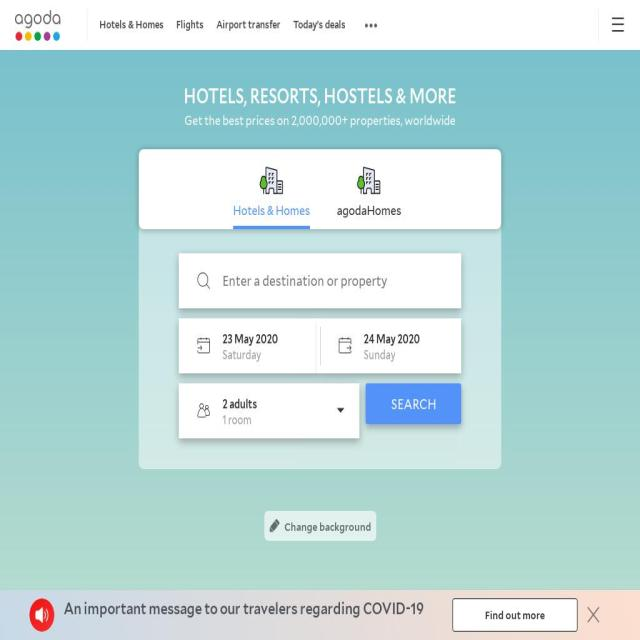button: (452, 598, 578, 632), (366, 383, 461, 425), (93, 0, 170, 50), (210, 0, 287, 50), (264, 511, 376, 541), (287, 0, 352, 50), (10, 0, 74, 50), (478, 105, 558, 143), (494, 205, 572, 243), (170, 0, 210, 50), (478, 56, 522, 92), (540, 150, 555, 200), (568, 150, 572, 200)
field: (222, 272, 430, 289)
heading: (139, 83, 501, 109), (139, 113, 501, 129), (232, 203, 310, 219), (336, 203, 402, 219)
image: (10, 10, 66, 42), (258, 162, 284, 196), (356, 162, 382, 196), (30, 598, 54, 632), (540, 168, 555, 184), (232, 226, 310, 229)
text: (63, 598, 550, 618), (222, 412, 328, 426), (605, 0, 630, 50), (222, 330, 288, 348), (364, 330, 430, 348), (284, 520, 371, 533), (222, 346, 288, 362), (364, 346, 430, 362), (391, 394, 436, 414), (486, 117, 550, 131), (502, 217, 564, 231), (99, 18, 164, 31), (216, 18, 281, 31), (293, 18, 346, 31), (222, 396, 257, 411), (485, 67, 514, 81), (176, 18, 204, 31), (568, 168, 572, 181)
